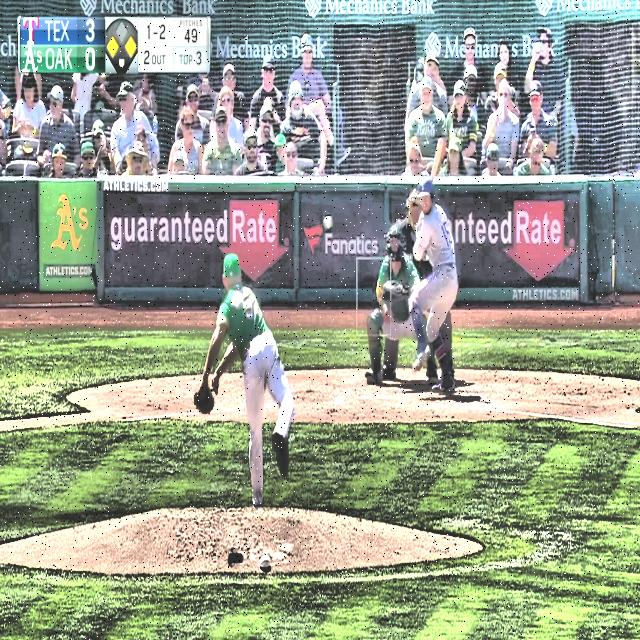baseball: (323, 214, 333, 230)
